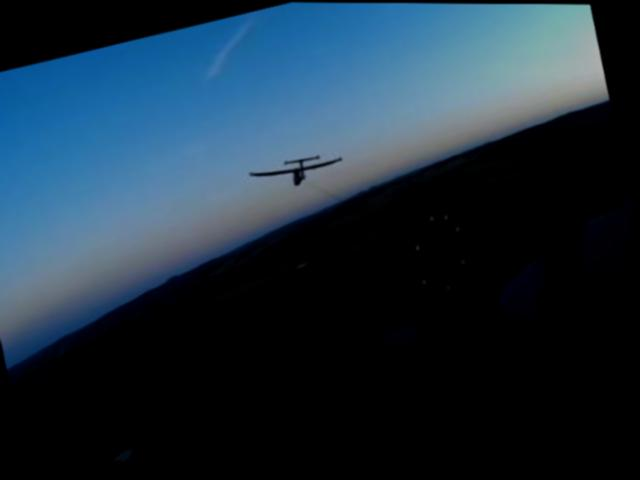uav: (245, 138, 349, 200)
